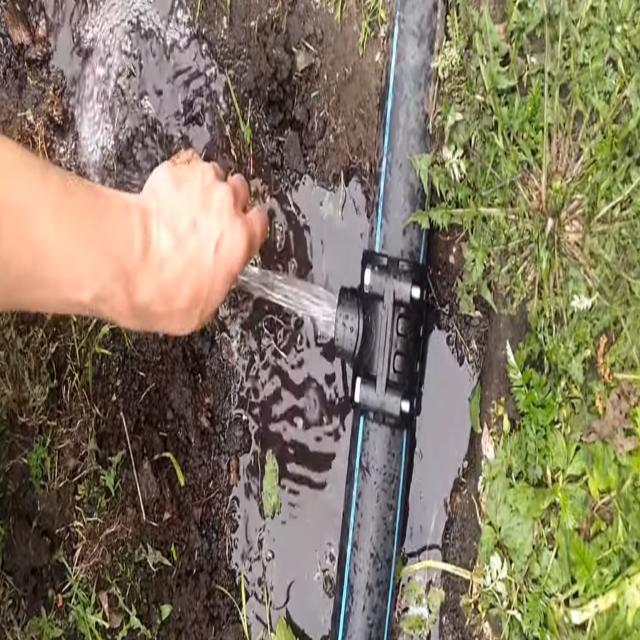leak: (238, 266, 338, 341)
